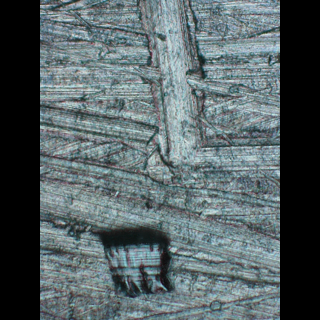d: (136, 0, 215, 183), (87, 213, 179, 298), (155, 131, 279, 177)
